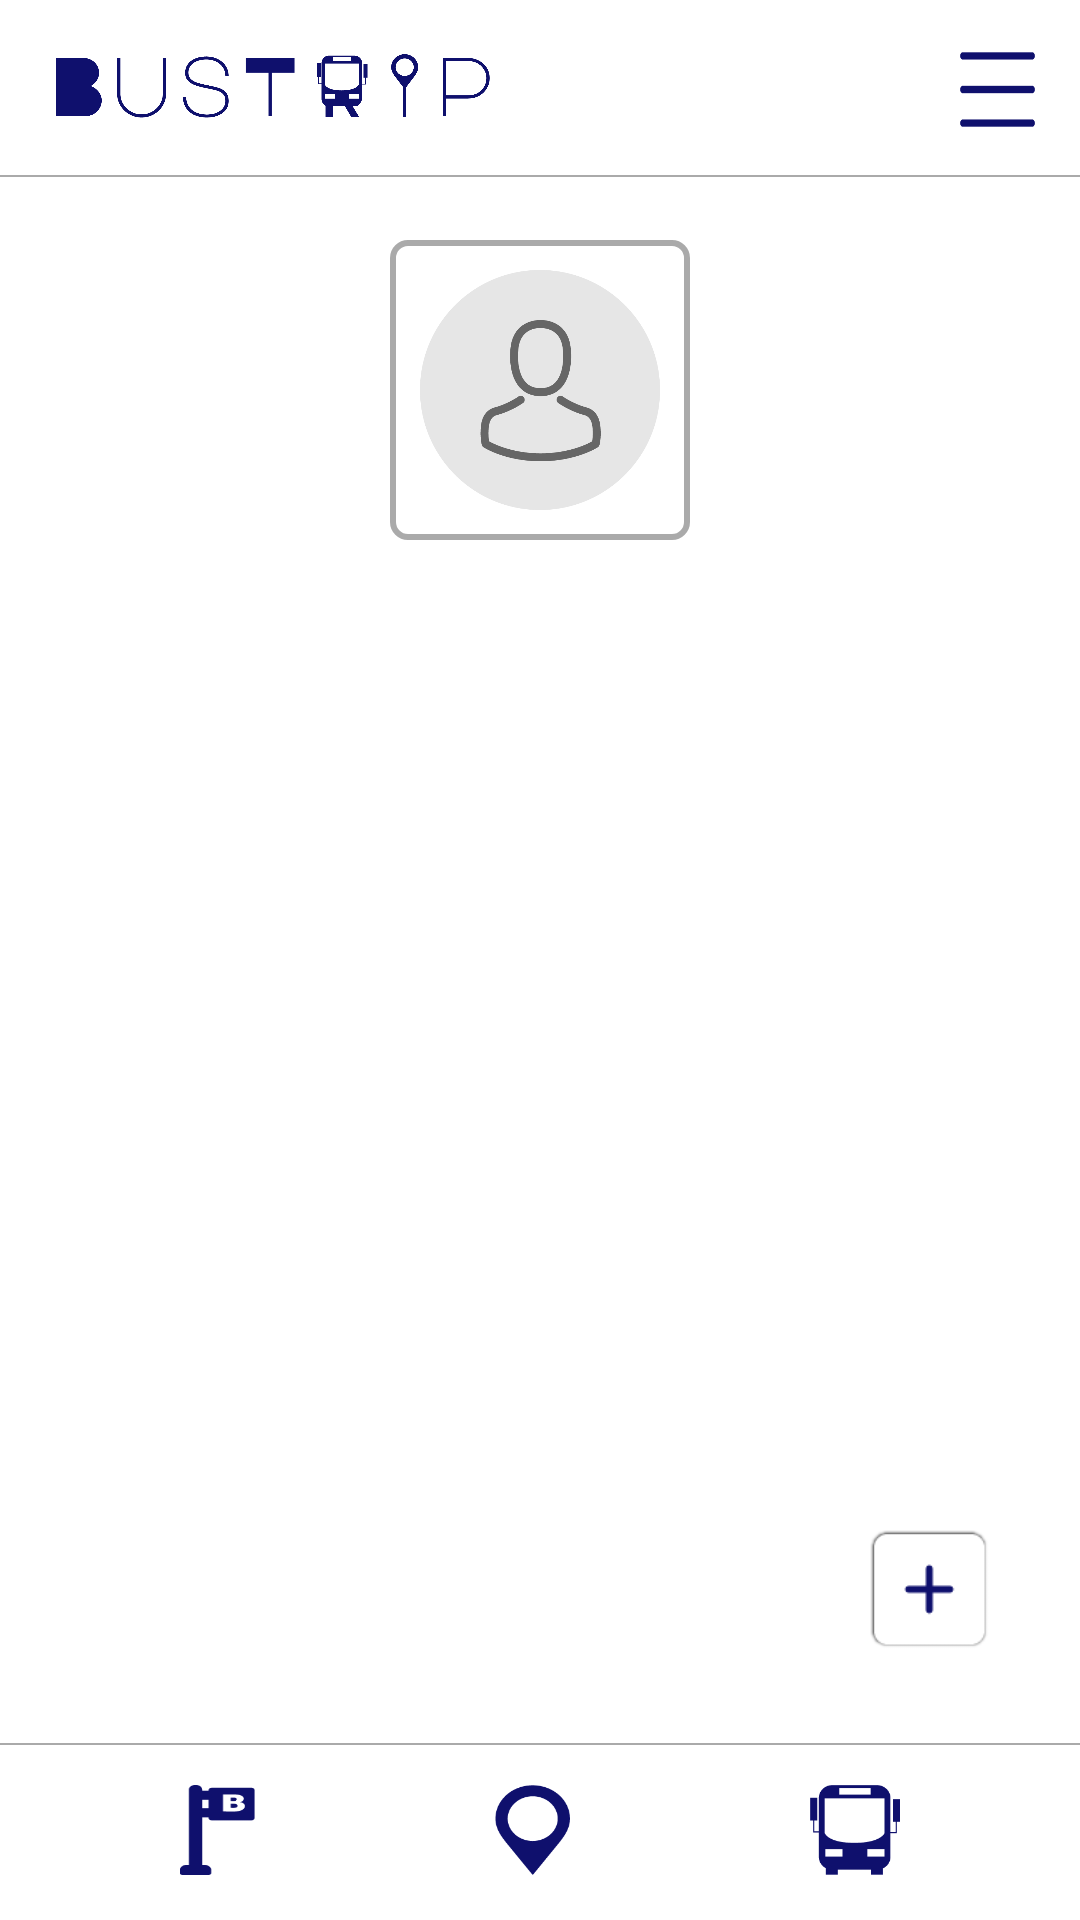

Named icons in this screenshot (1080*1920) and their bounding boxes, (x1, y1, x2, y2):
add: (871, 1531, 986, 1646)
buses: (810, 1785, 900, 1875)
estacion: (180, 1785, 255, 1875)
mapa: (495, 1785, 570, 1875)
menu: (960, 52, 1035, 127)
profile: (420, 270, 660, 510)
